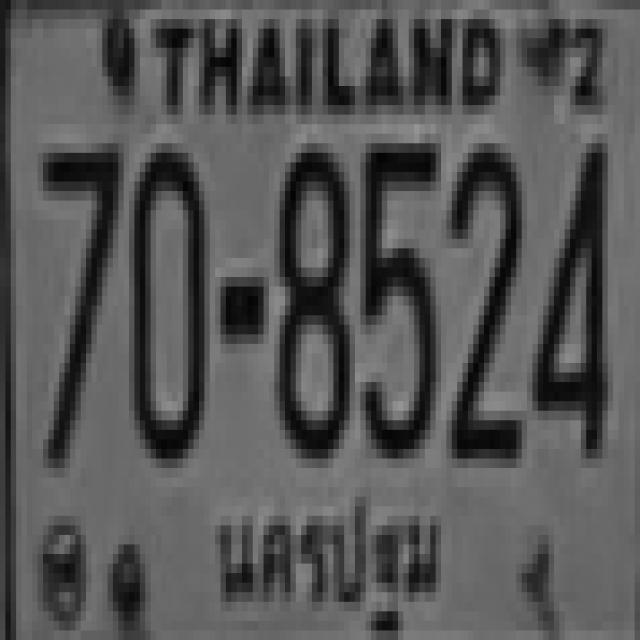0: (129, 144, 204, 458)
2: (446, 138, 516, 454)
4: (527, 134, 602, 449)
5: (360, 134, 436, 449)
7: (38, 144, 118, 458)
8: (274, 143, 344, 449)
NakhonPathom: (214, 474, 452, 638)
